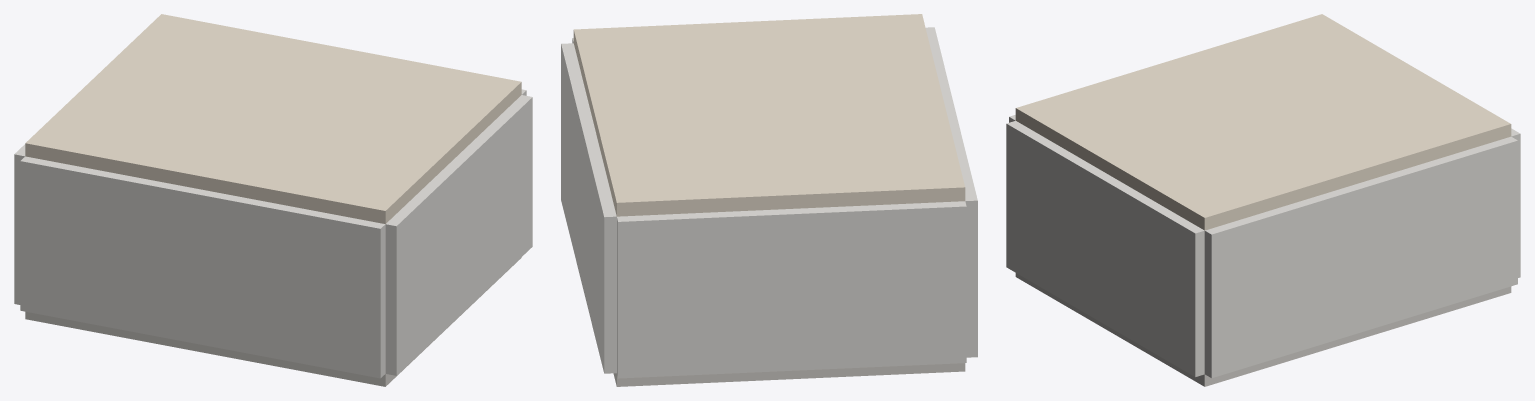
The picture shows the model from 3 angles, left to right: view 1: azimuth 30°, elevation 25°; view 2: azimuth 150°, elevation 25°; view 3: azimuth 270°, elevation 25°; orthographic projection. The views are drawn at different scales.
Parts seen in each view (by area): view 1: Ceiling, Wall_04, Wall_01, Floor, Wall_03; view 2: Ceiling, Wall_03, Wall_02, Wall_04, Floor; view 3: Ceiling, Wall_02, Wall_01, Floor, Wall_03.
Boxes of the visible parts, <box> form: Ceiling: <box>25,14,521,223</box>; Wall_04: <box>20,156,385,378</box>; Wall_01: <box>385,95,532,375</box>; Floor: <box>25,257,521,386</box>; Wall_03: <box>14,144,25,304</box>; Ceiling: <box>573,14,965,216</box>; Wall_03: <box>617,201,966,378</box>; Wall_02: <box>561,43,616,373</box>; Wall_04: <box>925,27,977,357</box>; Floor: <box>613,363,965,386</box>; Ceiling: <box>1015,14,1511,230</box>; Wall_02: <box>1204,136,1517,378</box>; Wall_01: <box>1006,120,1204,376</box>; Floor: <box>1015,273,1511,386</box>; Wall_03: <box>1511,128,1520,277</box>.
Bounding box in the file's own units: 10.79 × 4.01 × 11.07.
